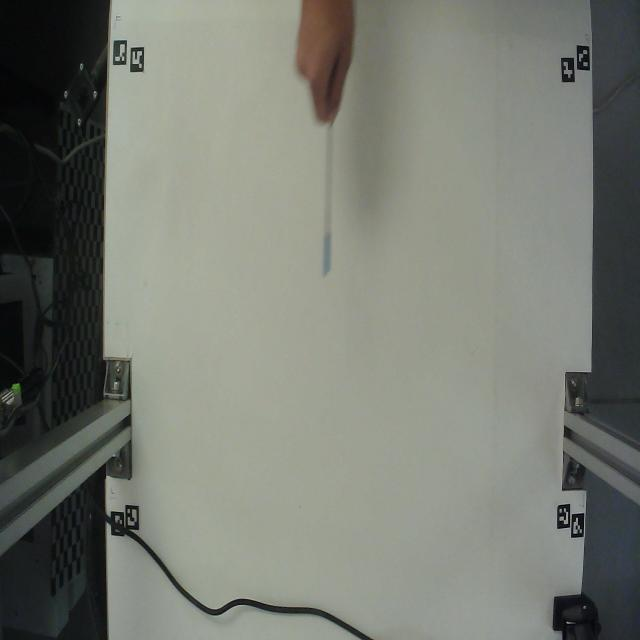NoPres: (312, 107, 344, 290)
